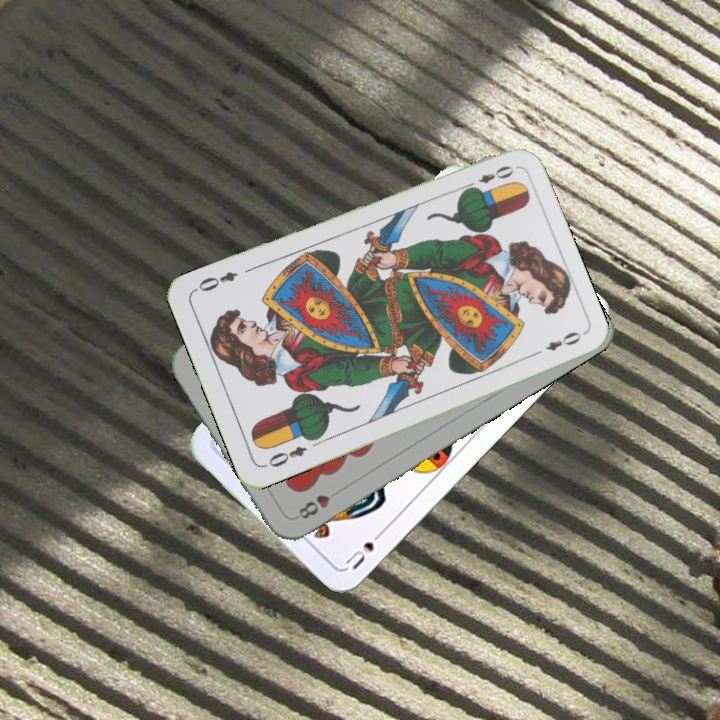EO: (461, 161, 517, 194), (260, 442, 310, 470)
H8: (294, 490, 333, 522)
SU: (341, 524, 388, 573)
